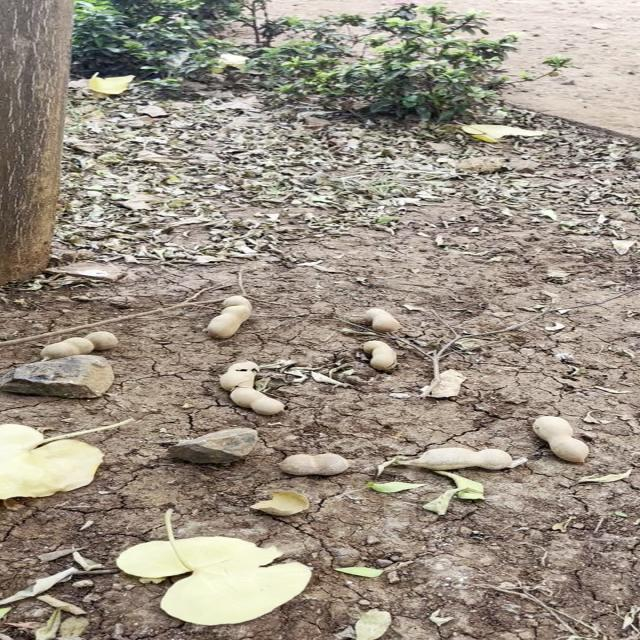tamarind: (226, 359, 285, 412), (534, 416, 593, 462), (389, 449, 512, 468), (34, 332, 116, 360), (212, 290, 250, 342), (284, 454, 344, 474), (354, 306, 402, 330), (360, 338, 394, 366)
